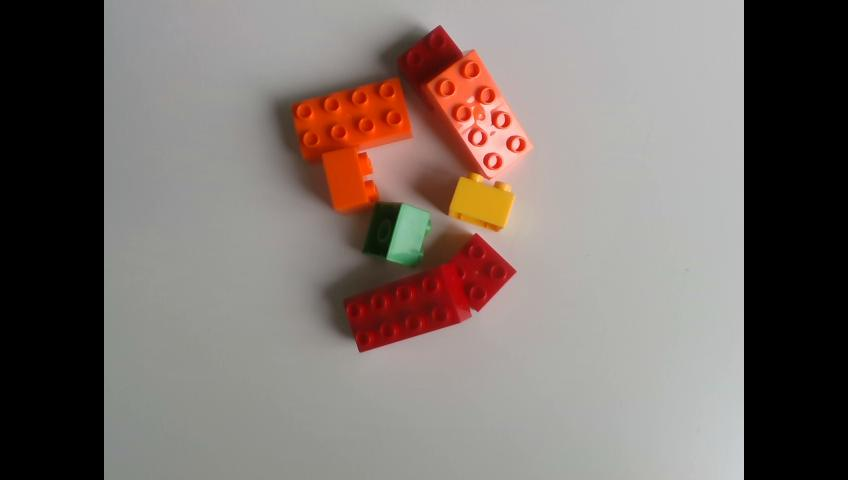2x2_green: (362, 203, 432, 266)
2x2_orange: (322, 146, 381, 217)
2x2_red: (395, 23, 462, 114), (446, 232, 516, 312)
2x2_yellow: (450, 171, 518, 234)
4x2_orange: (419, 51, 535, 180), (289, 77, 415, 165)
4x2_red: (343, 263, 474, 354)
